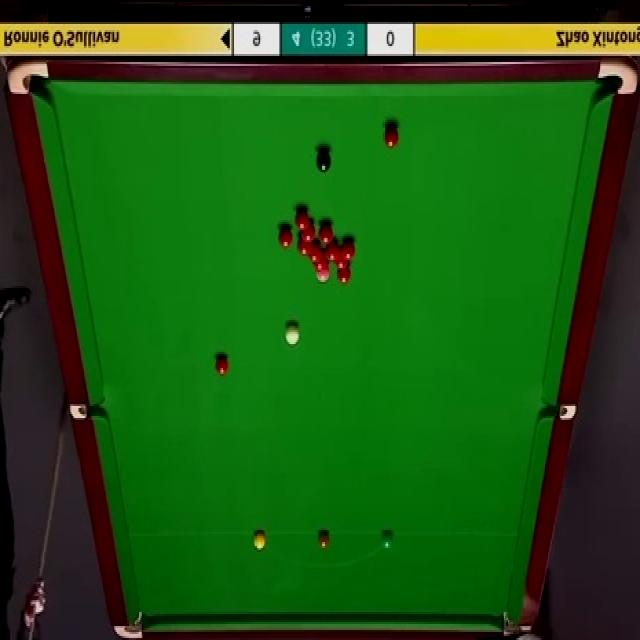pocket: (595, 55, 639, 100), (7, 58, 51, 94), (109, 606, 145, 640), (537, 405, 573, 420), (495, 612, 519, 634), (66, 405, 100, 420)
